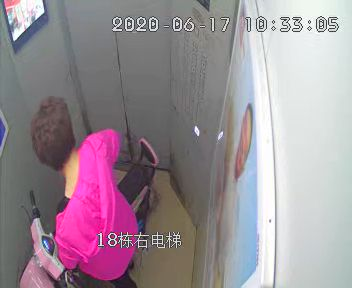Electric-bicycle: (20, 138, 156, 287)
